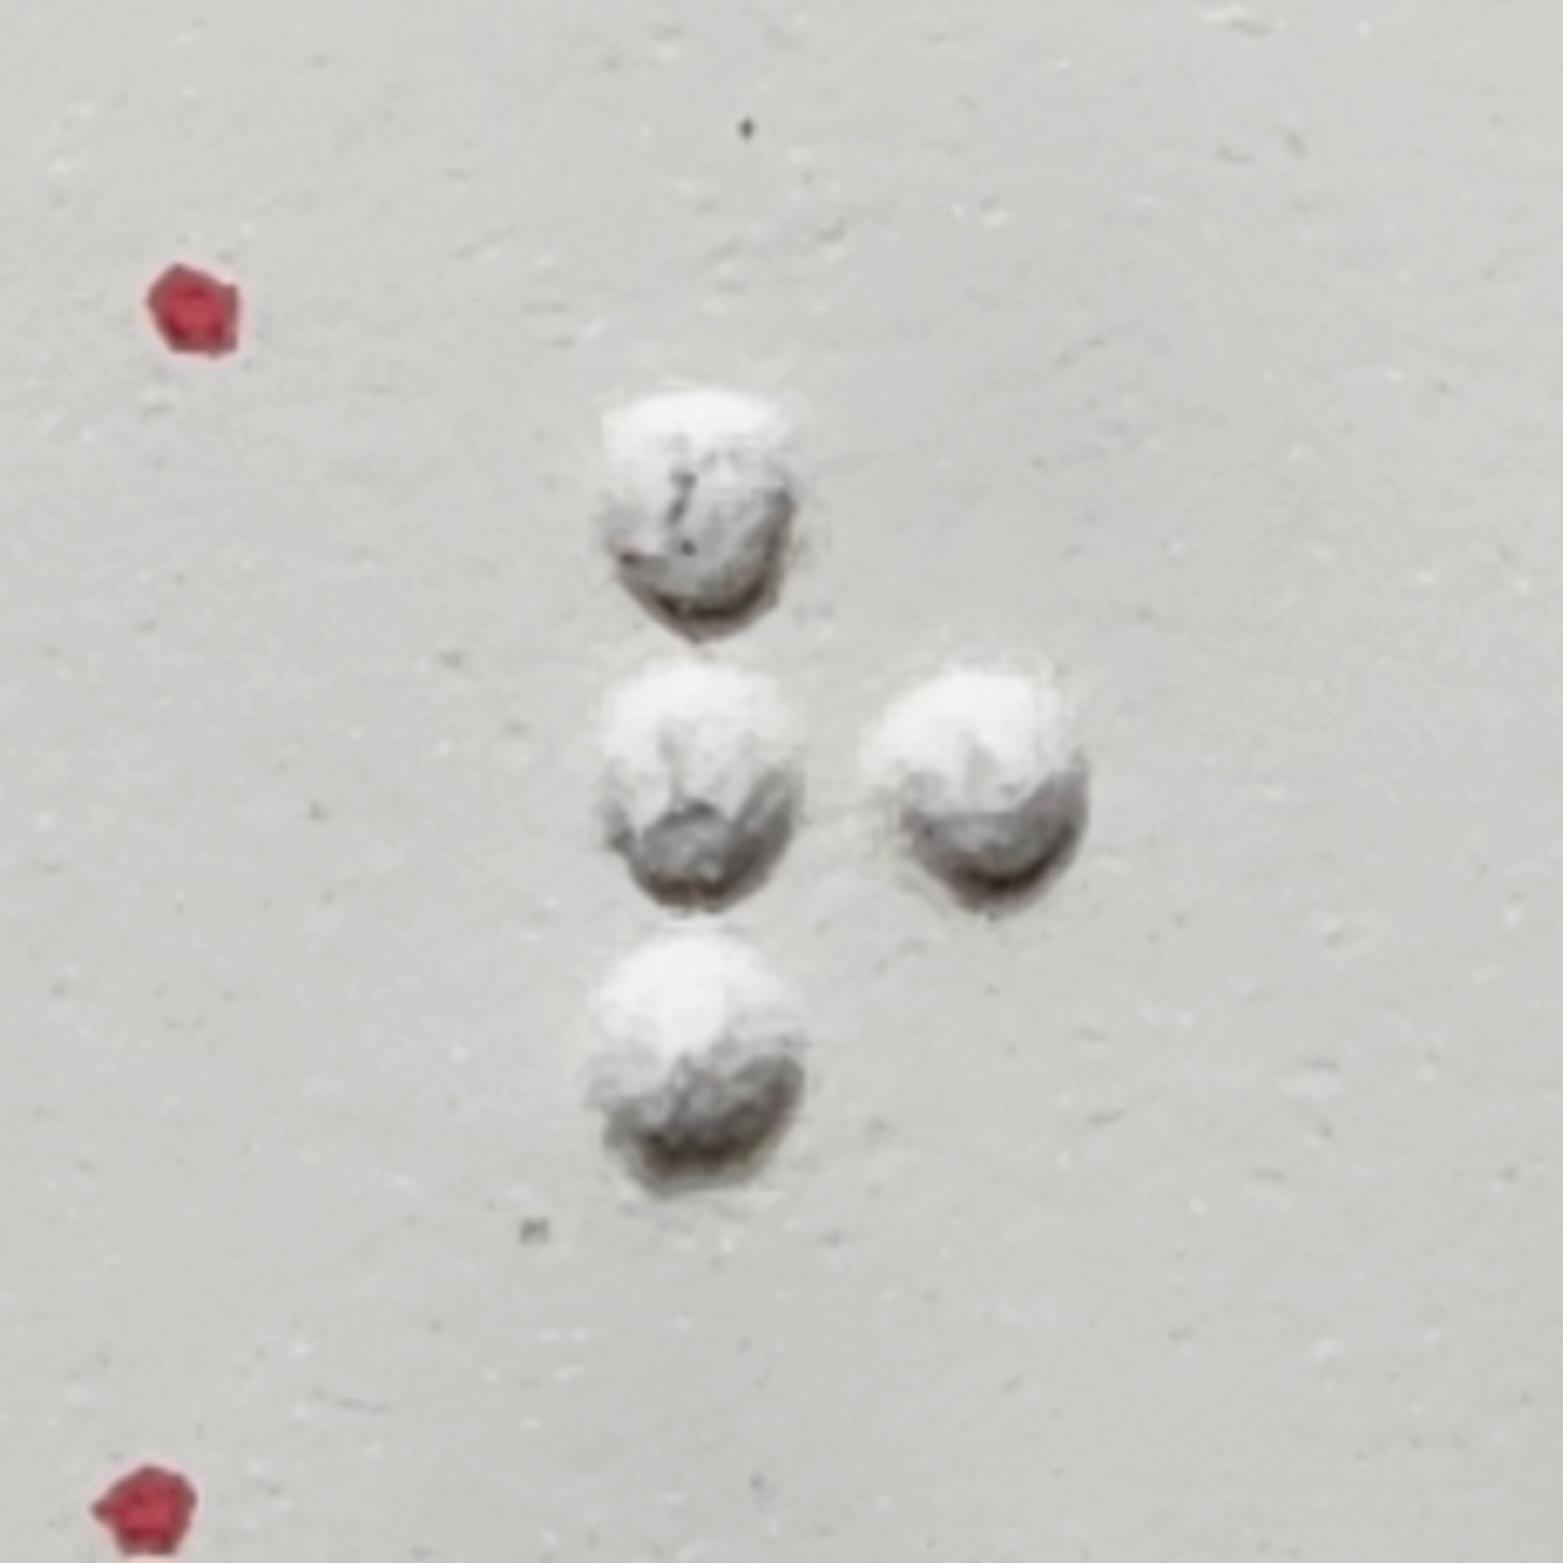letter_r: (597, 388, 1089, 1195)
